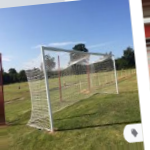goals: (22, 43, 122, 135)
